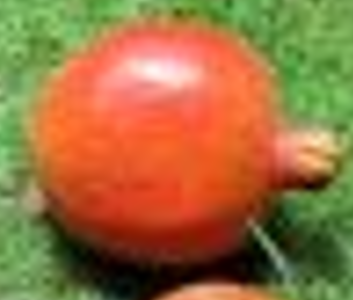pomegranate_A: (29, 20, 349, 268)
